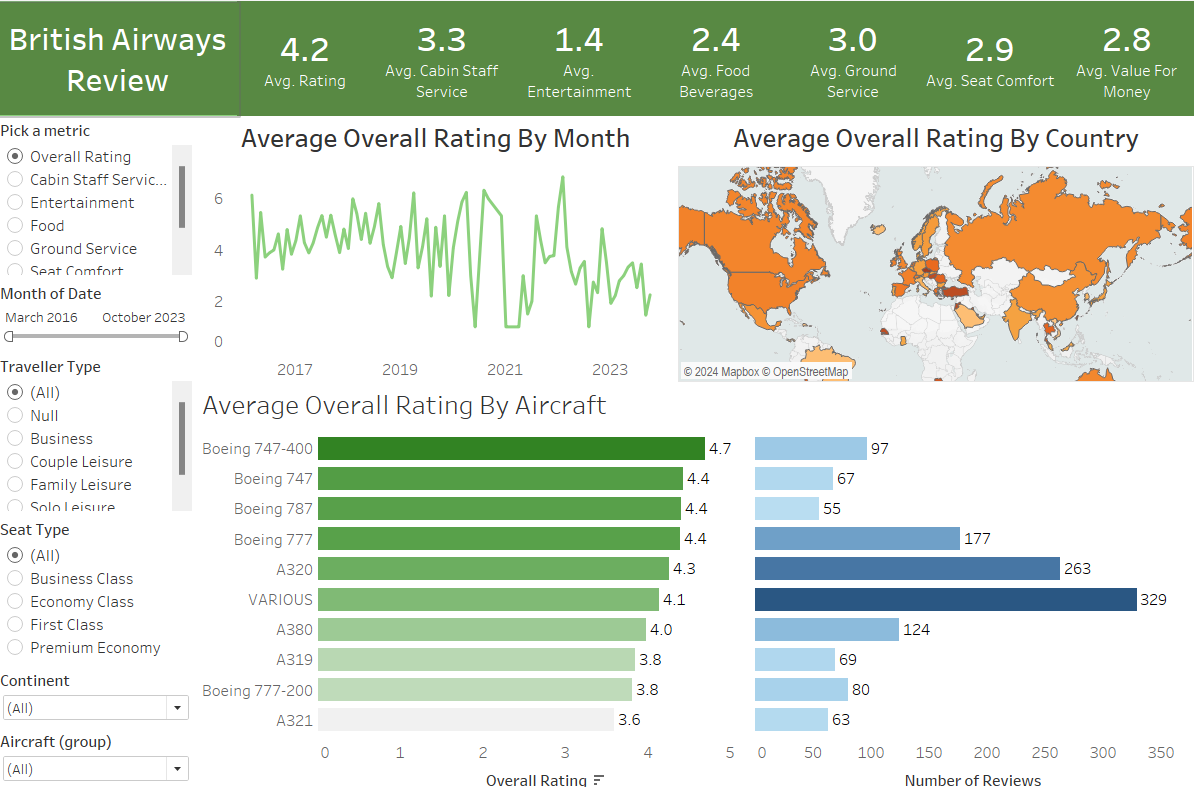

The dashboard page shown, as its layout file describes it:
{"tool":"tableau","page":{"name":"British Airways Review Dashboard","canvas":[1200,800],"ordinal":0},"visuals":[{"type":"text","box":[0,0,243,115.4]},{"type":"worksheet","title":"SUMMARY","mark":"Automatic","box":[241,0,959,115]},{"type":"worksheet","title":"Month","mark":"Automatic","rows":["Calculation_1357835298269069312"],"cols":["date"],"box":[204,115,471,266]},{"type":"worksheet","title":"Map","mark":"Automatic","box":[682,115,516,266]},{"type":"parameter","param":"[Parameters].[Parameter 1]","box":[0,115.4,200,163]},{"type":"filter","title":"Map","param":"[federated.0rxx39p0slqv0j14l77o709ha2im].[tmn:date:qk]","box":[0,278.4,200,73]},{"type":"filter","title":"Map","param":"[federated.0rxx39p0slqv0j14l77o709ha2im].[none:traveller_type:nk]","box":[0,351.4,200,163]},{"type":"worksheet","title":"Aircraft","mark":"Automatic","cols":["Calculation_1357835298269069312","ba_reviews.csv_E484E3A7716848E39849F1DFD54A48F4"],"box":[202,392,977,405]},{"type":"filter","title":"Map","param":"[federated.0rxx39p0slqv0j14l77o709ha2im].[none:seat_type:nk]","box":[0,514.4,200,151]},{"type":"filter","title":"Map","param":"[federated.0rxx39p0slqv0j14l77o709ha2im].[none:Continent:nk]","box":[0,665.4,200,61]},{"type":"filter","title":"Map","param":"[federated.0rxx39p0slqv0j14l77o709ha2im].[Aircraft (group)]","box":[0,726.4,200,61]}]}

Visuals, with their boxes in screenshot pixels (x1, y1, x2, y2), scaled from the page's 1200x800 canvas onto the 1194x787 screenshot:
text: [left=0, top=0, right=242, bottom=114]
"SUMMARY" worksheet: [left=240, top=0, right=1193, bottom=113]
"Month" worksheet: [left=203, top=113, right=672, bottom=375]
"Map" worksheet: [left=679, top=113, right=1192, bottom=375]
parameter: [left=0, top=114, right=199, bottom=274]
"Map" filter: [left=0, top=274, right=199, bottom=346]
"Map" filter: [left=0, top=346, right=199, bottom=506]
"Aircraft" worksheet: [left=201, top=386, right=1173, bottom=784]
"Map" filter: [left=0, top=506, right=199, bottom=655]
"Map" filter: [left=0, top=655, right=199, bottom=715]
"Map" filter: [left=0, top=715, right=199, bottom=775]
